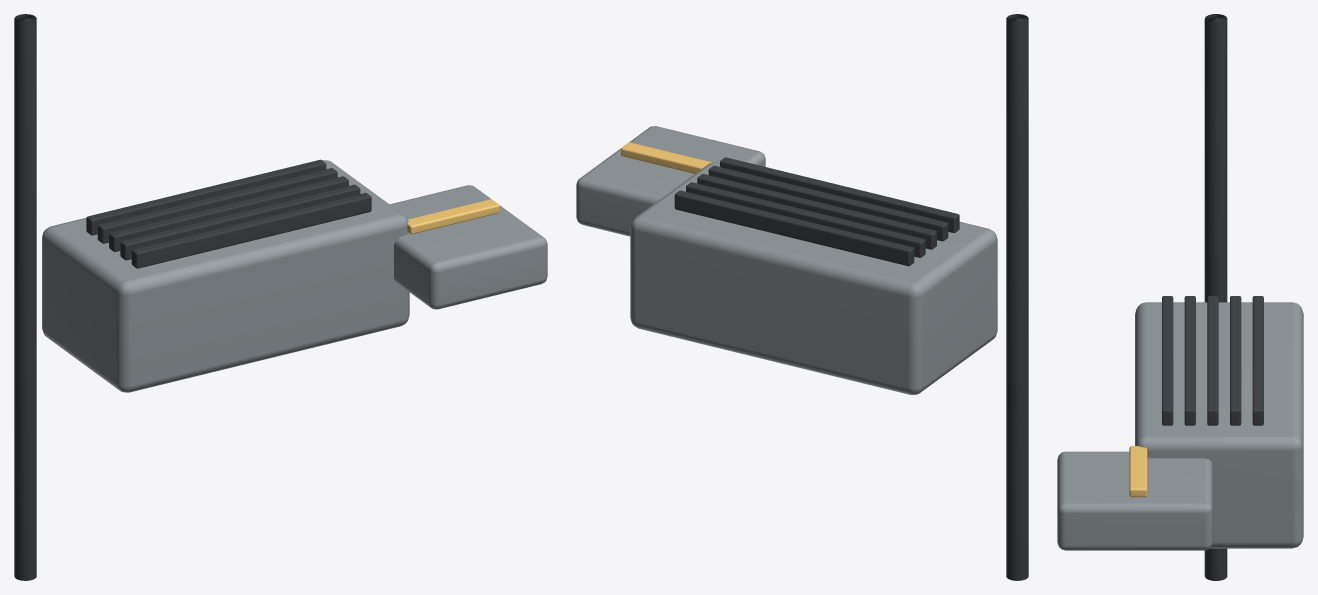
File: prop_building_detail_final.glb
3 renders of one model, left to right at view 1: azimuth 30°, elevation 25°; view 2: azimuth 150°, elevation 25°; view 3: azimuth 270°, elevation 25°, orthographic.
Parts seen in each view (by area): view 1: wall_mounted_ac_unit, vertical_drain_pipe, utility_junction_box, ac_front_louver_0, ac_front_louver_1, ac_front_louver_4, ac_front_louver_3, ac_front_louver_2, warning_label_plate; view 2: wall_mounted_ac_unit, vertical_drain_pipe, utility_junction_box, ac_front_louver_4, ac_front_louver_1, ac_front_louver_3, ac_front_louver_0, ac_front_louver_2, warning_label_plate; view 3: wall_mounted_ac_unit, utility_junction_box, vertical_drain_pipe, ac_front_louver_1, ac_front_louver_4, ac_front_louver_2, ac_front_louver_0, ac_front_louver_3, warning_label_plate.
Part boxes in pixels (x1,y1,x2,y2): wall_mounted_ac_unit: [42, 160, 409, 392]; vertical_drain_pipe: [14, 14, 36, 580]; utility_junction_box: [390, 185, 547, 309]; ac_front_louver_0: [131, 193, 371, 268]; ac_front_louver_1: [120, 184, 360, 260]; ac_front_louver_4: [86, 159, 326, 235]; ac_front_louver_3: [97, 168, 337, 243]; ac_front_louver_2: [109, 176, 348, 251]; warning_label_plate: [407, 199, 499, 234]; wall_mounted_ac_unit: [630, 162, 997, 394]; vertical_drain_pipe: [1006, 14, 1028, 580]; utility_junction_box: [576, 126, 765, 236]; ac_front_louver_4: [674, 190, 914, 266]; ac_front_louver_1: [708, 165, 948, 241]; ac_front_louver_3: [686, 182, 925, 257]; ac_front_louver_0: [720, 157, 959, 232]; ac_front_louver_2: [697, 174, 936, 249]; warning_label_plate: [621, 142, 712, 173]; wall_mounted_ac_unit: [1135, 302, 1303, 548]; utility_junction_box: [1057, 451, 1212, 550]; vertical_drain_pipe: [1204, 14, 1227, 580]; ac_front_louver_1: [1184, 296, 1195, 425]; ac_front_louver_4: [1252, 296, 1263, 425]; ac_front_louver_2: [1207, 296, 1218, 425]; ac_front_louver_0: [1162, 296, 1173, 425]; ac_front_louver_3: [1230, 296, 1241, 425]; warning_label_plate: [1129, 446, 1147, 497].
Size of the model in its own units: 1.62 by 1.9 by 0.76.
